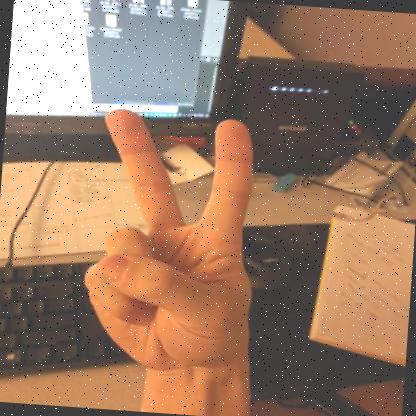V: (84, 109, 253, 380)
